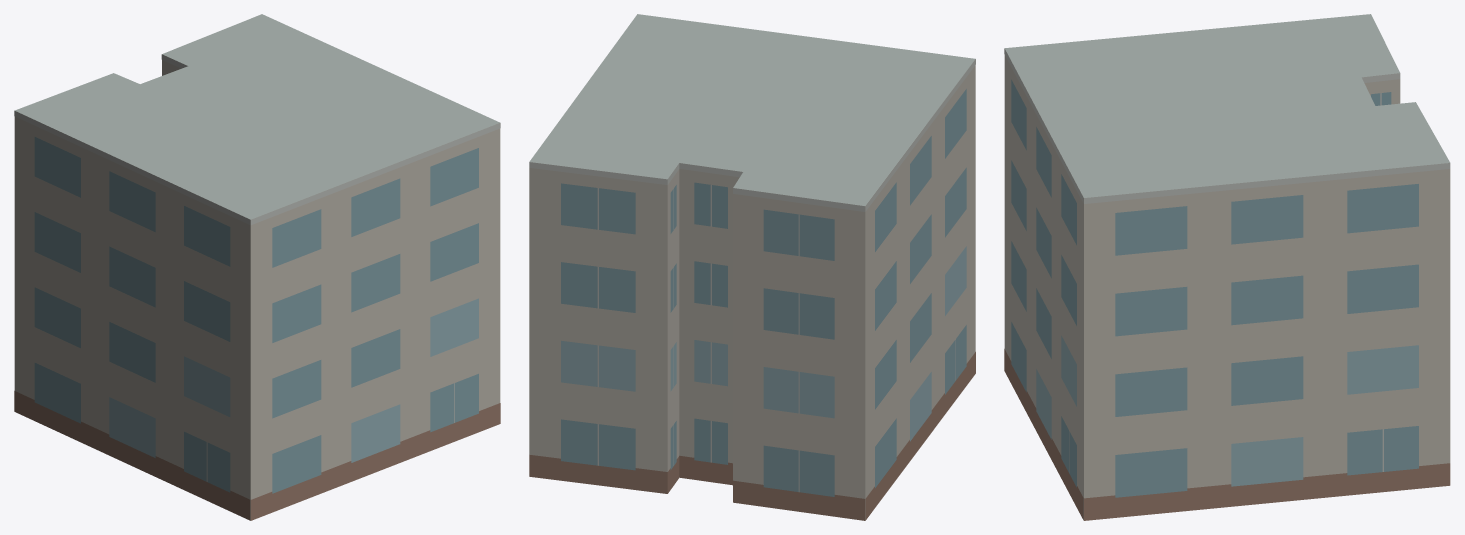
Rendered from survey-upis-32718246.glb.
3 views of the same model, side by side, from view 1: azimuth 30°, elevation 25°; view 2: azimuth 150°, elevation 25°; view 3: azimuth 270°, elevation 25° (orthographic). The views are drawn at different scales.
Parts seen in each view (by area): view 1: survey-upis-32718246.tmp; view 2: survey-upis-32718246.tmp; view 3: survey-upis-32718246.tmp.
Part boxes in pixels (box(x1,y1,x2,y2)): survey-upis-32718246.tmp: box(14, 14, 500, 520); survey-upis-32718246.tmp: box(529, 14, 975, 520); survey-upis-32718246.tmp: box(1004, 14, 1450, 520).
Size of the model in its own units: 16.02 by 13.09 by 16.4.
